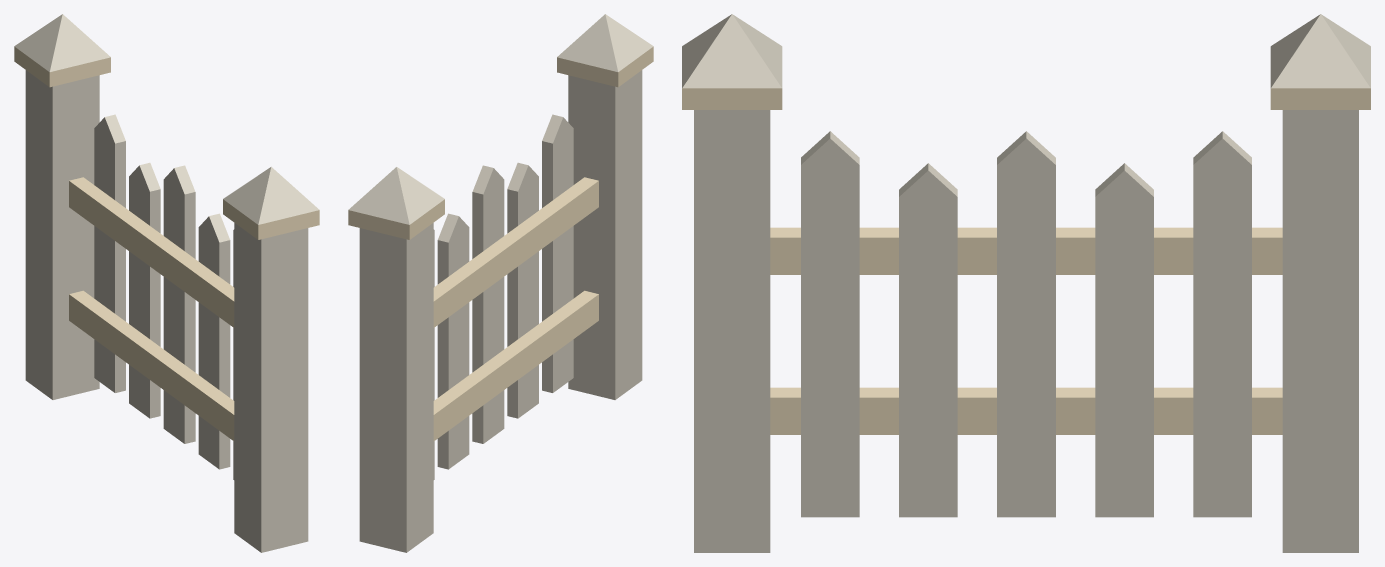
File: fence-3.glb
3 views of the same model, side by side, from view 1: azimuth 30°, elevation 25°; view 2: azimuth 150°, elevation 25°; view 3: azimuth 270°, elevation 25° (orthographic). The views are drawn at different scales.
Parts seen in each view (by area): view 1: Fence3_Panel; view 2: Fence3_Panel; view 3: Fence3_Panel.
Part boxes in pixels (x1,y1,x2,y2): Fence3_Panel: (14, 14, 319, 552); Fence3_Panel: (348, 14, 653, 552); Fence3_Panel: (682, 14, 1370, 552).
Size of the model in its own units: 0.17 by 0.98 by 1.17.
